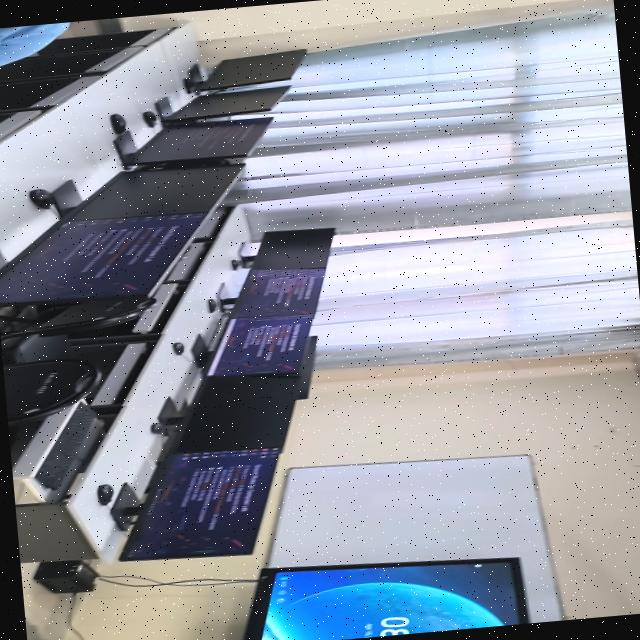Chair: (0, 295, 156, 363), (3, 358, 99, 424)
Digital board: (244, 556, 529, 640)
Keyboard: (35, 403, 96, 489)
Monitor: (0, 209, 207, 305), (120, 446, 280, 558), (52, 162, 245, 228), (171, 373, 300, 452), (121, 116, 272, 164), (207, 315, 312, 374), (184, 48, 306, 93), (231, 267, 324, 317), (163, 85, 288, 122), (242, 226, 335, 275)
Mouse: (29, 188, 55, 207), (110, 113, 126, 133), (98, 483, 113, 504), (184, 76, 202, 92), (151, 421, 172, 434), (143, 110, 157, 126), (173, 340, 184, 354), (208, 297, 219, 311), (231, 258, 242, 269)
